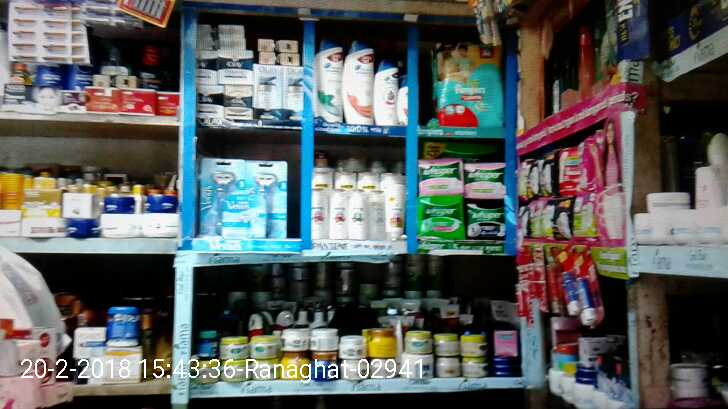venus: (244, 161, 287, 236), (203, 159, 244, 236)
